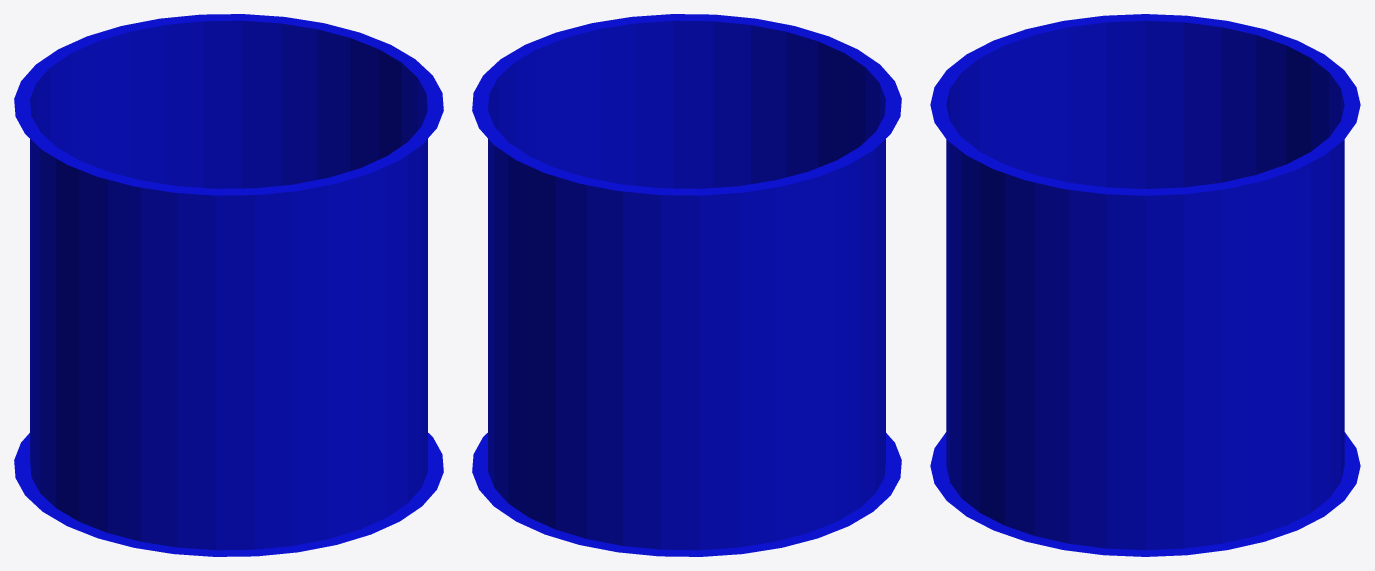
The picture shows the model from 3 angles, left to right: view 1: azimuth 30°, elevation 25°; view 2: azimuth 150°, elevation 25°; view 3: azimuth 270°, elevation 25°; orthographic projection.
Visible parts, largest first — view 1: Tube.001; view 2: Tube.001; view 3: Tube.001.
Part boxes in pixels (<box>): Tube.001: <box>14,14,443,556</box>; Tube.001: <box>472,14,901,556</box>; Tube.001: <box>930,14,1360,556</box>.
Size of the model in its own units: 814 by 753 by 814.
